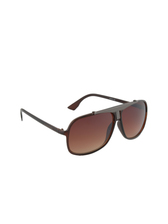glasses: (10, 86, 155, 153)
